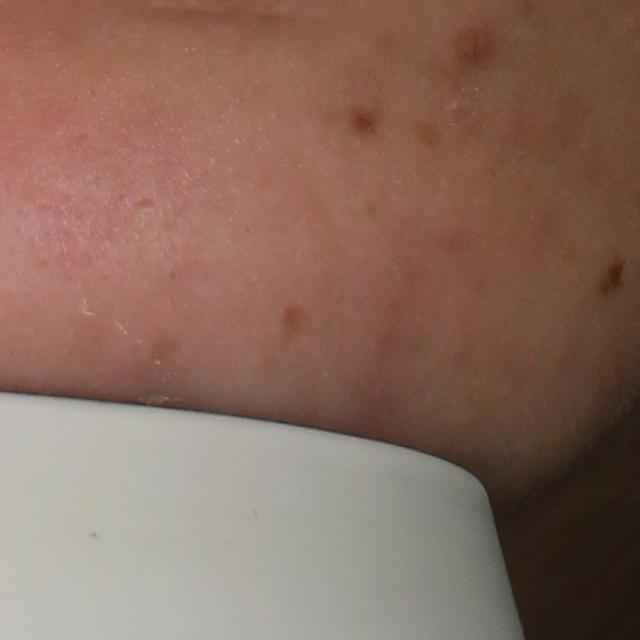atrophic_scar: (128, 194, 157, 212)
nevus: (343, 99, 383, 137), (592, 254, 626, 298)
